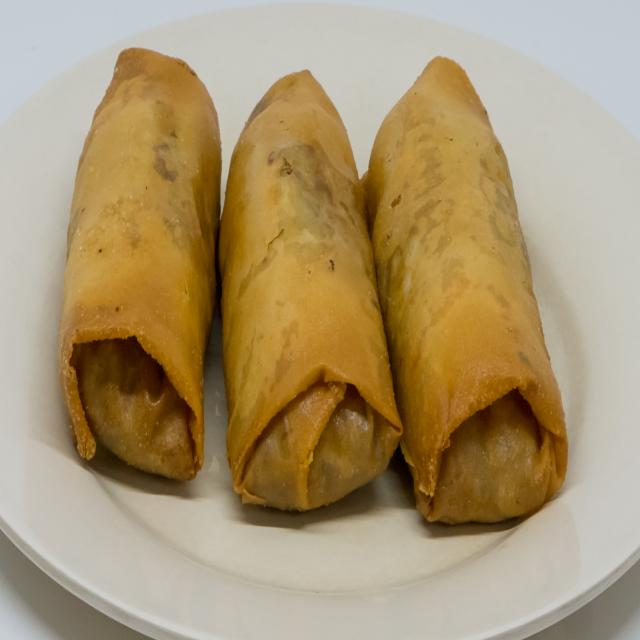Lumpia-Semarang: (54, 10, 582, 564)
